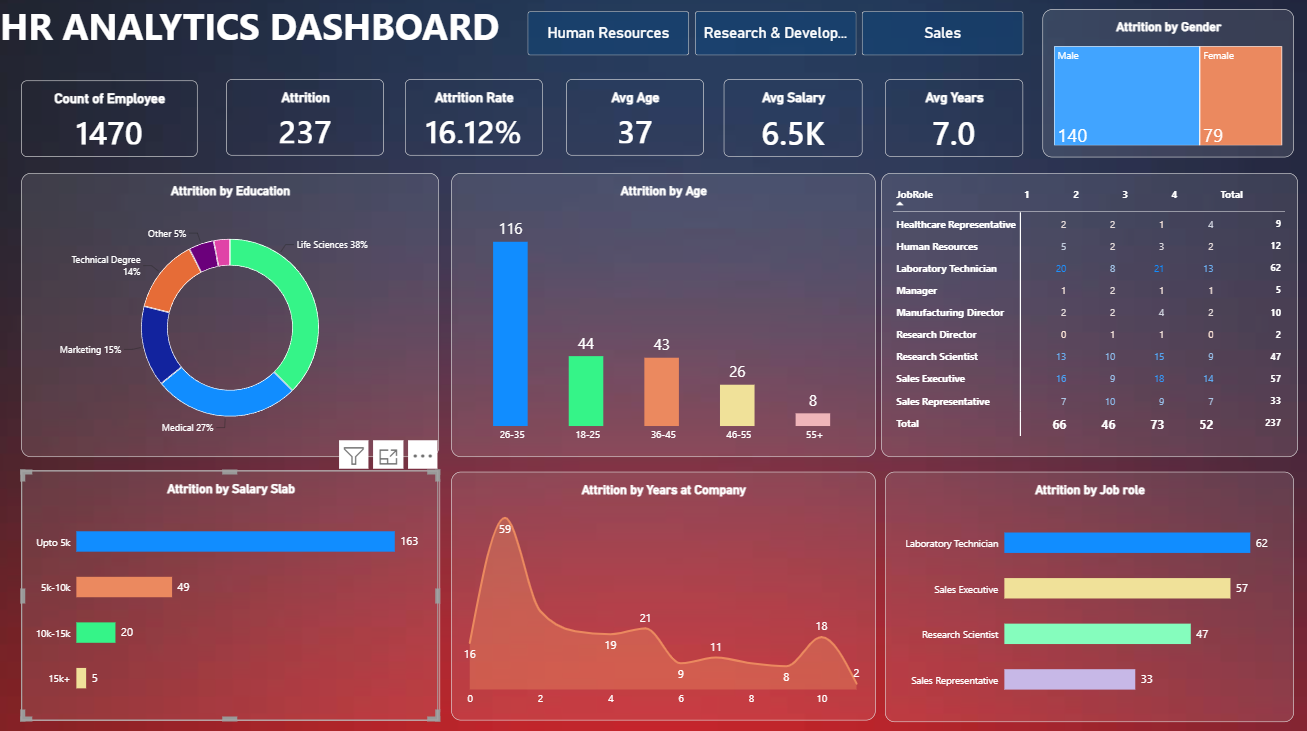

What the dashboard file says about the page in this screenshot:
{"tool":"powerbi","page":{"name":"Dashboard","canvas":[1920,1080],"ordinal":0},"visuals":[{"type":"card","title":"Count of Employee","fields":{"Values":["CountNonNull(HR_Analytics.EmpID)"]},"box":[45,133.3,255,110],"z":0},{"type":"card","title":"Attrition","fields":{"Values":["Sum(HR_Analytics.Attrition Count)"]},"box":[341.7,131.7,228.3,110],"z":1000},{"type":"card","title":"Attrition Rate","fields":{"Values":["HR_Analytics.Attrition_rate"]},"box":[601.7,131.7,199.1,110.4],"z":2000},{"type":"card","title":"Avg Age","fields":{"Values":["Avg(HR_Analytics.Age)"]},"box":[835,131.7,199.1,110.4],"z":3000},{"type":"card","title":"Avg Salary","fields":{"Values":["Avg(HR_Analytics.MonthlyIncome)"]},"box":[1061.7,131.7,200.9,112.2],"z":4000},{"type":"card","title":"Avg Years","fields":{"Values":["Avg(HR_Analytics.YearsAtCompany)"]},"box":[1296,132,200,112],"z":5000},{"type":"donutChart","title":"Attrition by Education","fields":{"Category":["HR_Analytics.EducationField"],"Y":["Sum(HR_Analytics.Attrition Count)"]},"box":[46,268.3,604.8,411.1],"z":6000},{"type":"columnChart","title":"Attrition by Age","fields":{"Category":["HR_Analytics.AgeGroup"],"Y":["Sum(HR_Analytics.Attrition Count)"]},"box":[668.3,268.3,614.3,411.1],"z":7000},{"type":"pivotTable","fields":{"Rows":["HR_Analytics.JobRole"],"Values":["Sum(HR_Analytics.Attrition Count)"],"Columns":["HR_Analytics.JobSatisfaction"]},"box":[1290.5,268.3,603.2,411.1],"z":8000},{"type":"barChart","title":"Attrition by Salary Slab","fields":{"Category":["HR_Analytics.SalarySlab"],"Y":["Sum(HR_Analytics.Attrition Count)"]},"box":[44.4,698.4,606,362],"z":9000},{"type":"barChart","title":"Attrition by Job role","fields":{"Y":["Sum(HR_Analytics.Attrition Count)"],"Category":["HR_Analytics.JobRole"]},"box":[1295.2,700,592,362],"z":10000},{"type":"areaChart","title":"Attrition by Years at Company","fields":{"Category":["HR_Analytics.YearsAtCompany"],"Y":["Sum(HR_Analytics.Attrition Count)"]},"box":[668.3,700,614,360],"z":11000},{"type":"treemap","title":"Attrition by Gender","fields":{"Group":["HR_Analytics.Gender"],"Values":["Sum(HR_Analytics.Attrition Count)"]},"box":[1524,30,364,214],"z":12000},{"type":"advancedSlicerVisual","fields":{"Values":["HR_Analytics.Department"]},"box":[778,0,720,98],"z":13000},{"type":"textbox","box":[14,18,764,102],"z":14000}]}

Visuals, with their boxes in screenshot pixels (x1, y1, x2, y2), scaled from the page's 1920x1080 canvas onto the 1307x731 screenshot:
"Count of Employee" card: <box>31,90,204,165</box>
"Attrition" card: <box>233,89,388,164</box>
"Attrition Rate" card: <box>410,89,545,164</box>
"Avg Age" card: <box>568,89,704,164</box>
"Avg Salary" card: <box>723,89,859,165</box>
"Avg Years" card: <box>882,89,1018,165</box>
"Attrition by Education" donutChart: <box>31,182,443,460</box>
"Attrition by Age" columnChart: <box>455,182,873,460</box>
pivotTable - HR_Analytics.JobRole x Sum(HR_Analytics.Attrition Count): <box>878,182,1289,460</box>
"Attrition by Salary Slab" barChart: <box>30,473,443,718</box>
"Attrition by Job role" barChart: <box>882,474,1285,719</box>
"Attrition by Years at Company" areaChart: <box>455,474,873,717</box>
"Attrition by Gender" treemap: <box>1037,20,1285,165</box>
advancedSlicerVisual - HR_Analytics.Department: <box>530,0,1020,66</box>
textbox: <box>10,12,530,81</box>
